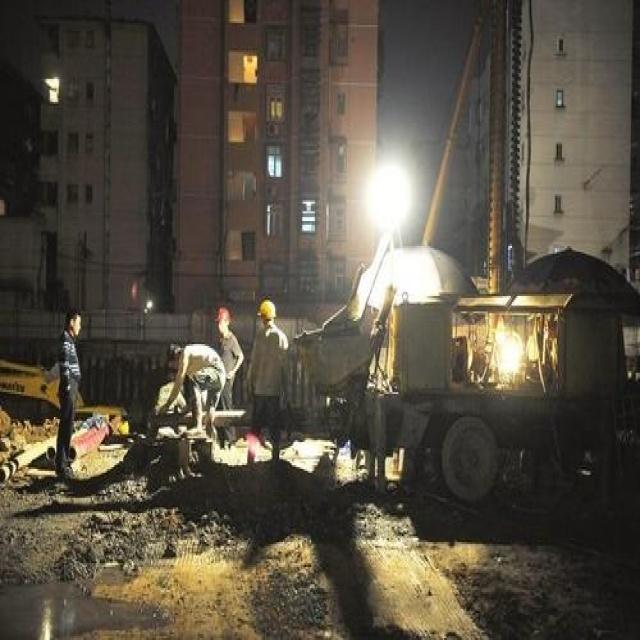helmet: (63, 405, 82, 452), (214, 403, 231, 449), (259, 395, 277, 436), (165, 455, 182, 496)
